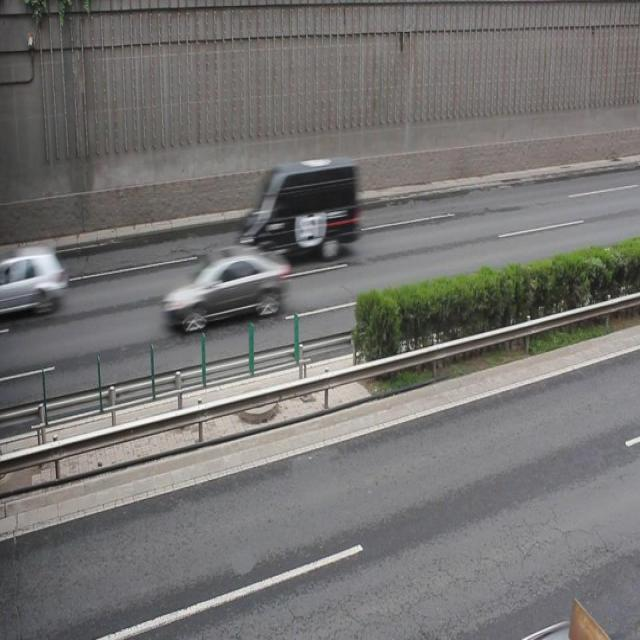car: (162, 249, 288, 328), (0, 246, 64, 313)
truck: (239, 156, 360, 259)
